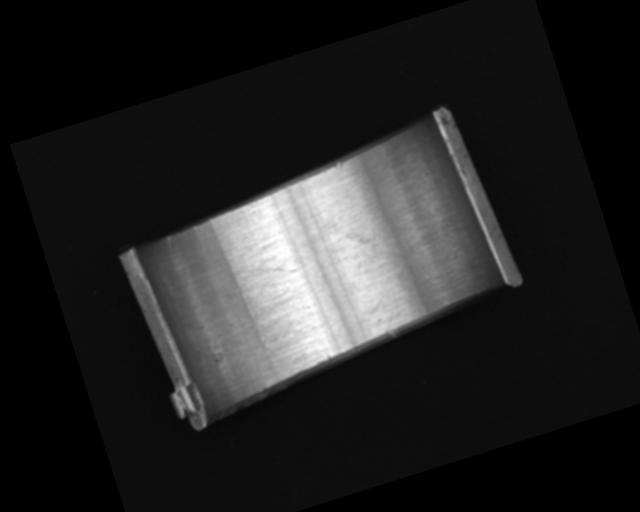blot: (342, 217, 403, 273)
bruise: (334, 160, 345, 170)
nick: (164, 234, 174, 249)
